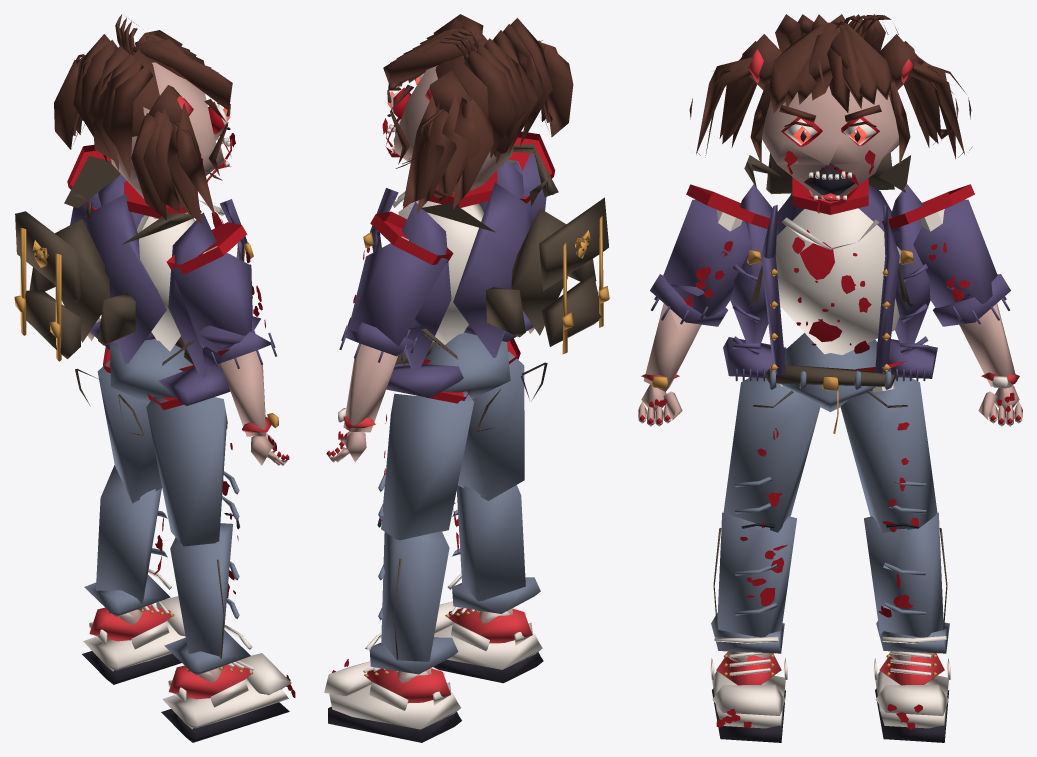
File: inf.college-student.lod2.glb
3 views of the same model, side by side, from view 1: azimuth 30°, elevation 25°; view 2: azimuth 150°, elevation 25°; view 3: azimuth 270°, elevation 25° (orthographic). The views are drawn at different scales.
Visible parts, largest first — view 1: head, torso, backpackSocket, legR, shinL, shinR, footR, armR, footL, legL, hip, foreArmR (+4 smaller); view 2: head, torso, backpackSocket, legL, shinL, shinR, footL, armL, legR, footR, hip, foreArmL (+5 smaller); view 3: torso, head, legL, legR, shinR, shinL, armR, armL, footR, footL, hip, foreArmR (+7 smaller).
Part boxes in pixels (x1,y1,x2,y2): head: (54, 14, 235, 223); torso: (64, 156, 253, 406); backpackSocket: (14, 192, 135, 361); legR: (146, 396, 239, 546); shinL: (84, 465, 171, 616); shinR: (164, 523, 252, 675); footR: (161, 653, 295, 742); armR: (171, 252, 276, 368); footL: (82, 596, 185, 684); legL: (97, 360, 161, 503); hip: (75, 336, 221, 436); foreArmR: (220, 351, 278, 436); head: (382, 14, 573, 213); torso: (363, 143, 558, 397); backpackSocket: (485, 177, 609, 354); legL: (377, 391, 473, 540); shinL: (365, 531, 458, 674); shinR: (447, 485, 540, 613); footL: (324, 659, 461, 742); armL: (339, 243, 447, 362); legR: (458, 351, 524, 500); footR: (433, 601, 543, 683); hip: (395, 332, 547, 431); foreArmL: (338, 344, 398, 432); torso: (723, 155, 937, 381); head: (689, 14, 972, 213); legL: (840, 377, 937, 532); legR: (723, 377, 820, 532); shinR: (711, 512, 796, 653); shinL: (864, 512, 949, 653); armR: (650, 199, 750, 326); armL: (892, 199, 1010, 326); footR: (710, 651, 787, 742); footL: (873, 651, 950, 742); hip: (753, 333, 907, 433); foreArmR: (641, 303, 701, 391).
Size of the model in its own units: 0.5461 by 1.69 by 0.8615.
